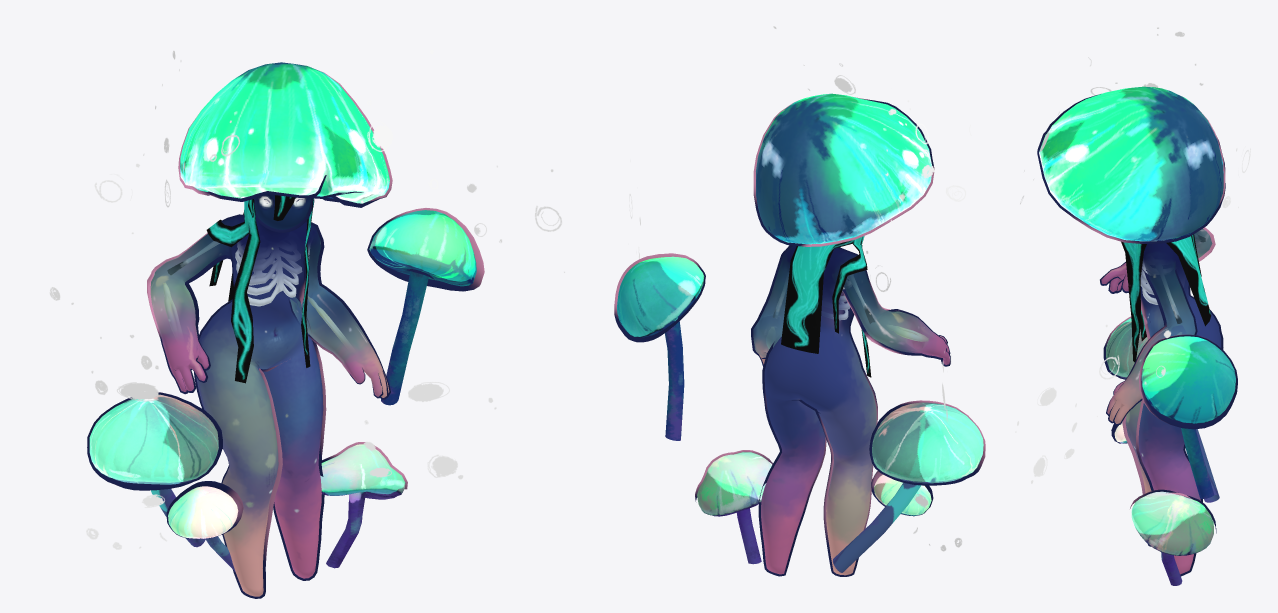
Rendered from mycena_chlorophos.glb.
3 views of the same model, side by side, from view 1: azimuth 30°, elevation 25°; view 2: azimuth 150°, elevation 25°; view 3: azimuth 270°, elevation 25° (orthographic). The views are drawn at different scales.
Visible parts, largest first — view 1: Object_5, Object_2, Object_6, Object_4, Object_7, Object_3; view 2: Object_5, Object_2, Object_6, Object_4, Object_7, Object_3; view 3: Object_5, Object_2, Object_6, Object_4, Object_7, Object_3.
Boxes of the visible parts, bbox=[...] form: Object_5: bbox=[89, 62, 476, 571]; Object_2: bbox=[150, 194, 389, 596]; Object_6: bbox=[87, 69, 484, 598]; Object_4: bbox=[206, 195, 313, 383]; Object_7: bbox=[49, 50, 564, 549]; Object_3: bbox=[163, 241, 349, 344]; Object_5: bbox=[617, 93, 983, 572]; Object_2: bbox=[753, 245, 949, 575]; Object_6: bbox=[614, 97, 985, 576]; Object_4: bbox=[781, 236, 871, 377]; Object_7: bbox=[629, 26, 971, 551]; Object_3: bbox=[766, 277, 928, 348]; Object_5: bbox=[1039, 86, 1235, 585]; Object_2: bbox=[1101, 228, 1221, 574]; Object_6: bbox=[1037, 94, 1237, 576]; Object_4: bbox=[1121, 234, 1211, 362]; Object_7: bbox=[1015, 27, 1250, 483]; Object_3: bbox=[1140, 234, 1205, 334].
Size of the model in its own units: 5.43 by 6.37 by 2.84.
6 materials, 6 textured.
